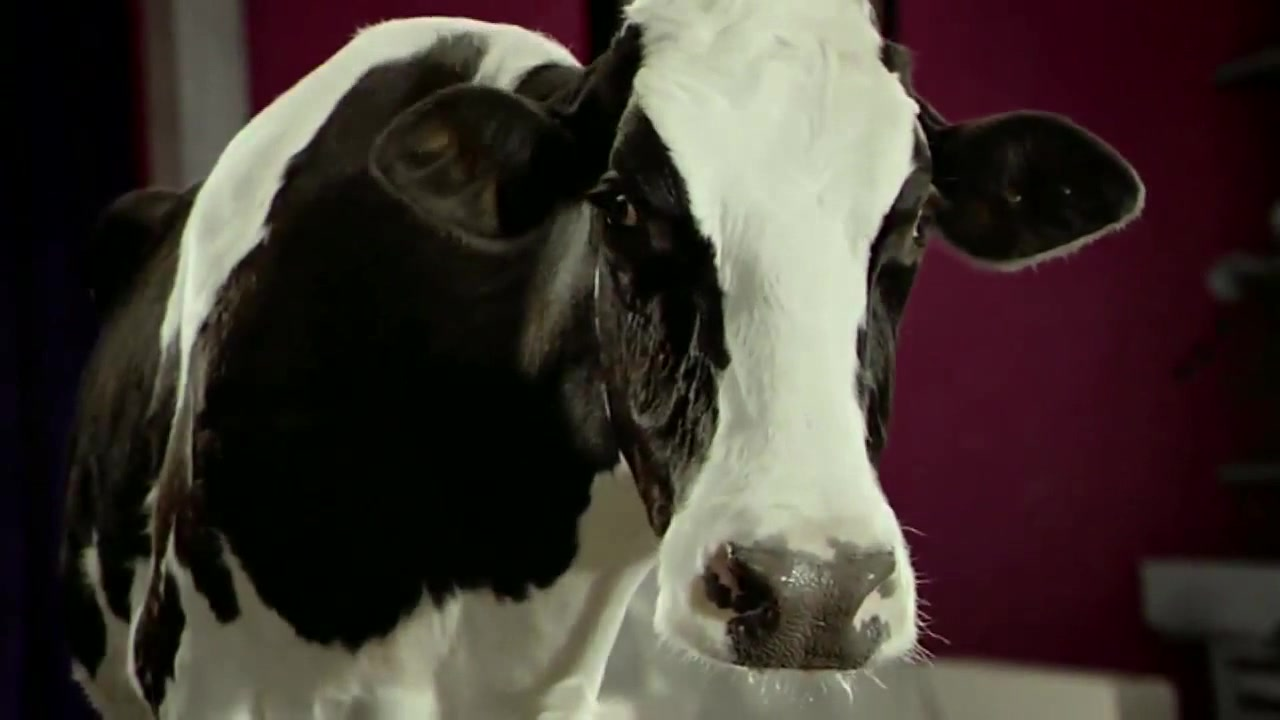cow: (1, 2, 1150, 720)
